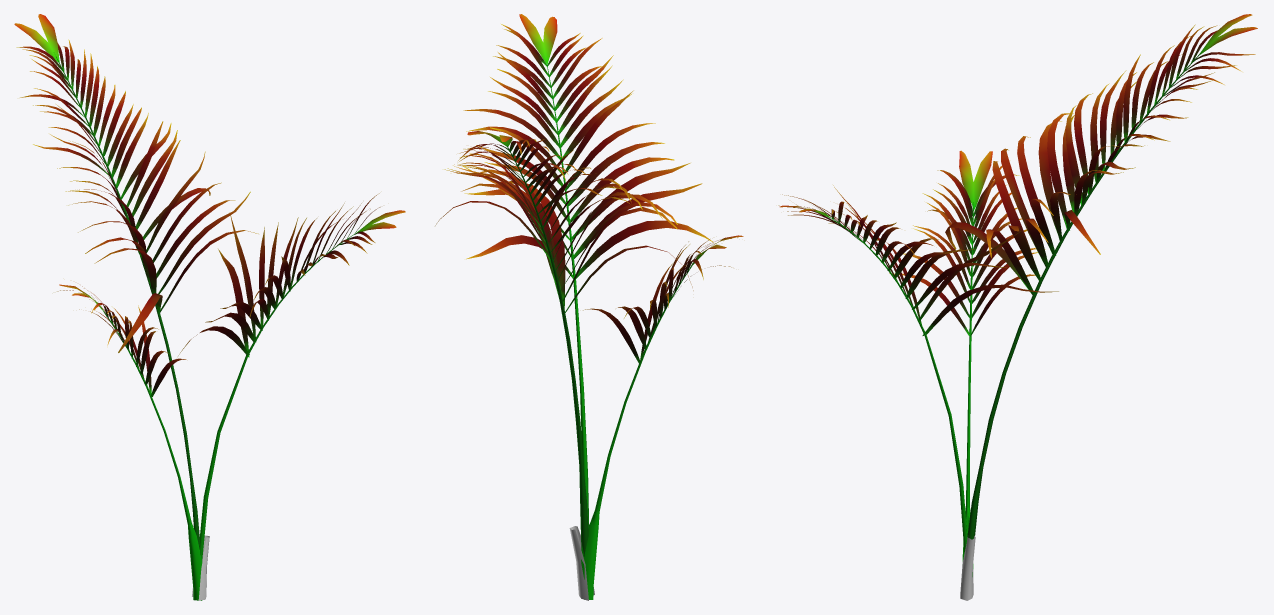
Rendered from Alexandra Palm_LOD3_Var2_ukgkcilia.fbx.
3 renders of one model, left to right at view 1: azimuth 30°, elevation 25°; view 2: azimuth 150°, elevation 25°; view 3: azimuth 270°, elevation 25°, orthographic. The views are drawn at different scales.
Parts seen in each view (by area): view 1: _r1a5_Var2_LOD3; view 2: _r1a5_Var2_LOD3; view 3: _r1a5_Var2_LOD3.
Boxes of the visible parts, bbox=[...] form: _r1a5_Var2_LOD3: bbox=[14, 14, 405, 600]; _r1a5_Var2_LOD3: bbox=[435, 14, 743, 600]; _r1a5_Var2_LOD3: bbox=[778, 14, 1257, 600].
Size of the model in its own units: 41.71 by 75.15 by 59.62.
